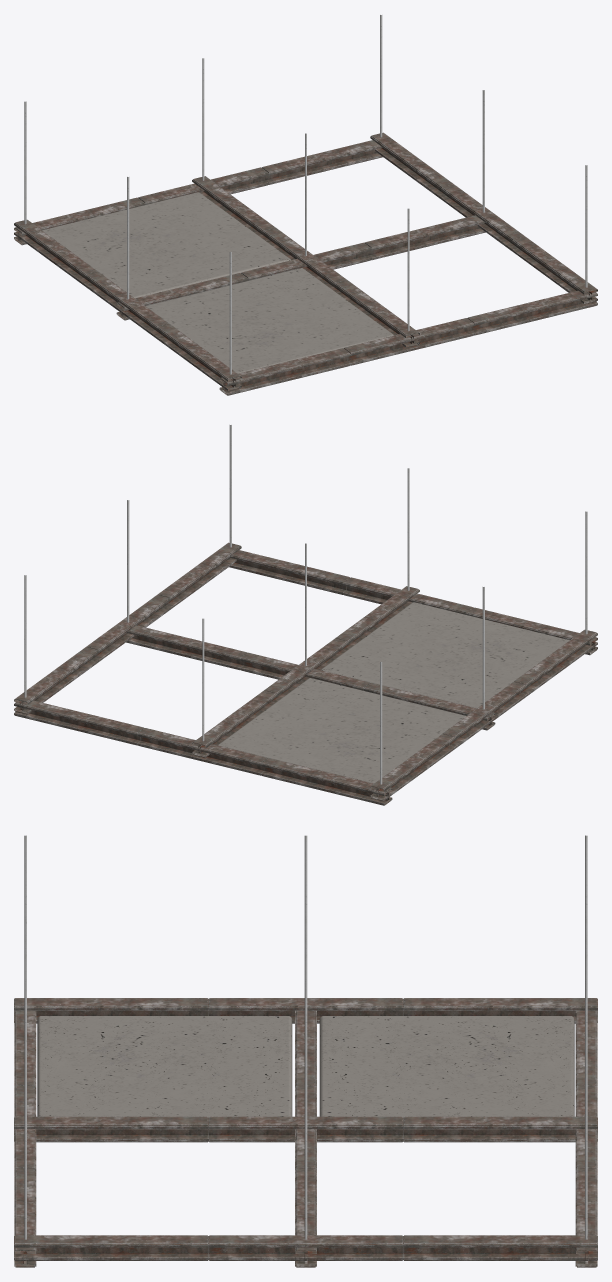
Rendered from SM_Ceiling_Scaffold_Whole_Gaps.glb.
3 views of the same model, one above another, from view 1: azimuth 30°, elevation 25°; view 2: azimuth 150°, elevation 25°; view 3: azimuth 270°, elevation 25° (orthographic). The views are drawn at different scales.
Visible parts, largest first — view 1: SM_Ceiling_Scaffold_Whole_Gaps; view 2: SM_Ceiling_Scaffold_Whole_Gaps; view 3: SM_Ceiling_Scaffold_Whole_Gaps.
Boxes of the visible parts, x1,y1,x2,y2 form: SM_Ceiling_Scaffold_Whole_Gaps: [14, 15, 597, 395]; SM_Ceiling_Scaffold_Whole_Gaps: [14, 425, 597, 805]; SM_Ceiling_Scaffold_Whole_Gaps: [14, 835, 597, 1267].
Size of the model in its own units: 2.6 by 0.9392 by 2.6.
Materials: 3 (3 with a texture image).
